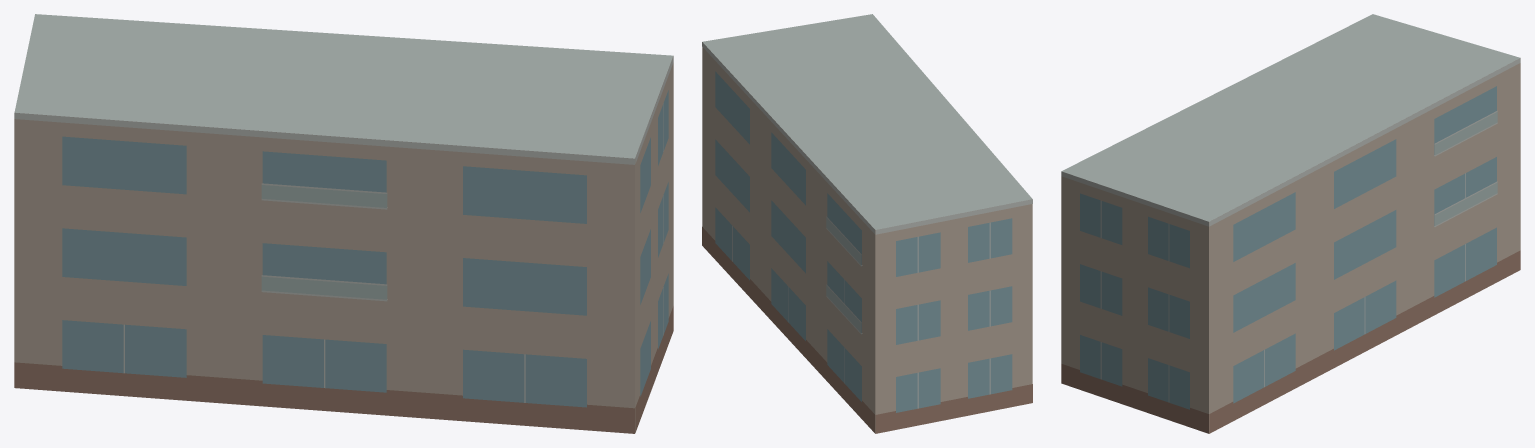
The model's file is survey-upis-33015714.glb.
3 views of the same model, side by side, from view 1: azimuth 30°, elevation 25°; view 2: azimuth 150°, elevation 25°; view 3: azimuth 270°, elevation 25° (orthographic). The views are drawn at different scales.
Visible parts, largest first — view 1: survey-upis-33015714.tmp; view 2: survey-upis-33015714.tmp; view 3: survey-upis-33015714.tmp.
Boxes of the visible parts, left/top/right/bottom form: survey-upis-33015714.tmp: left=14, top=14, right=673, bottom=433; survey-upis-33015714.tmp: left=702, top=14, right=1032, bottom=433; survey-upis-33015714.tmp: left=1061, top=14, right=1520, bottom=433.
Size of the model in its own units: 22.29 by 10.6 by 20.82.
